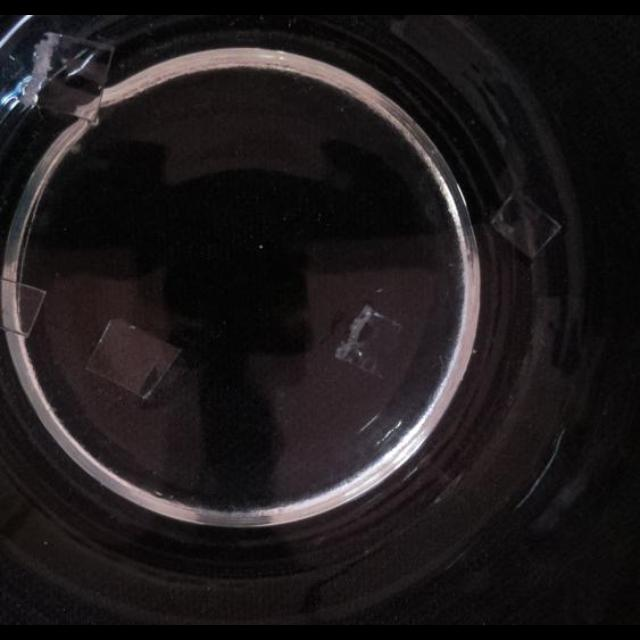Film: (82, 316, 186, 404), (23, 36, 116, 122), (338, 304, 404, 380), (491, 193, 562, 261), (0, 280, 50, 338)
